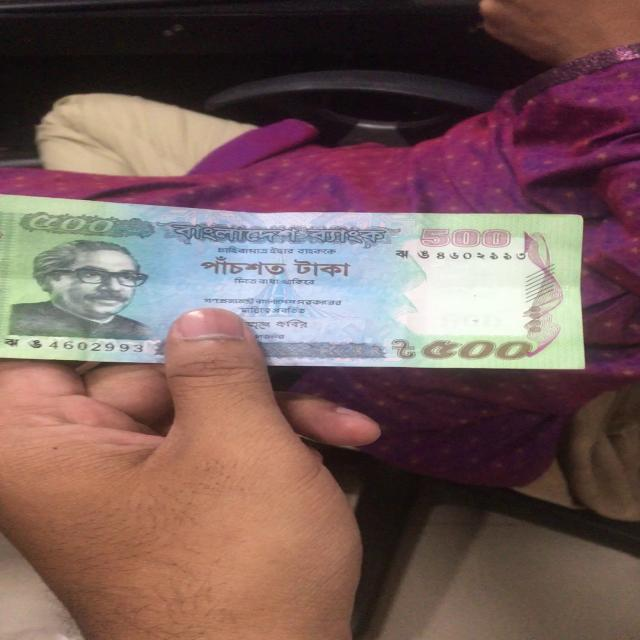Taka: (6, 195, 585, 369)
